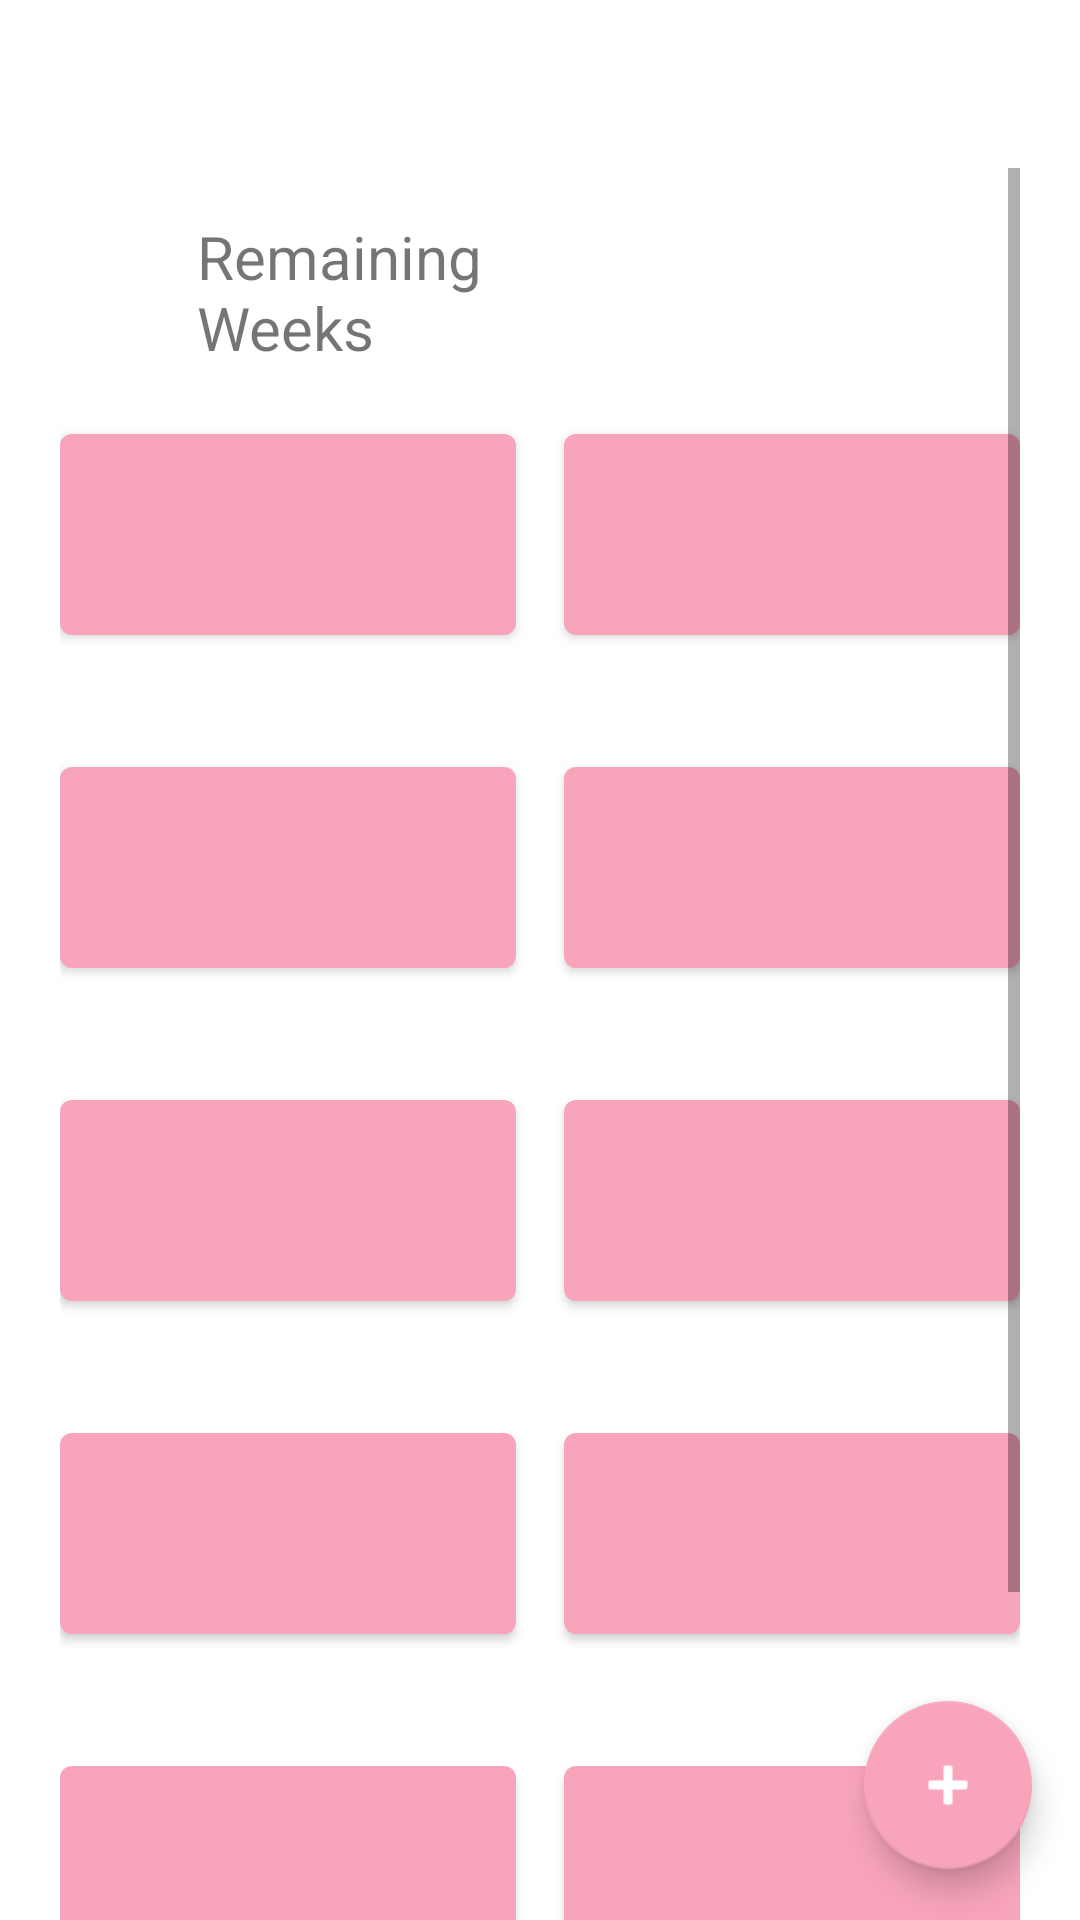

Locate icon controls on the screen. Image size 1080×1920, boxes as (x1,y1,x2,y2).
add: (864,1701,1032,1869)
